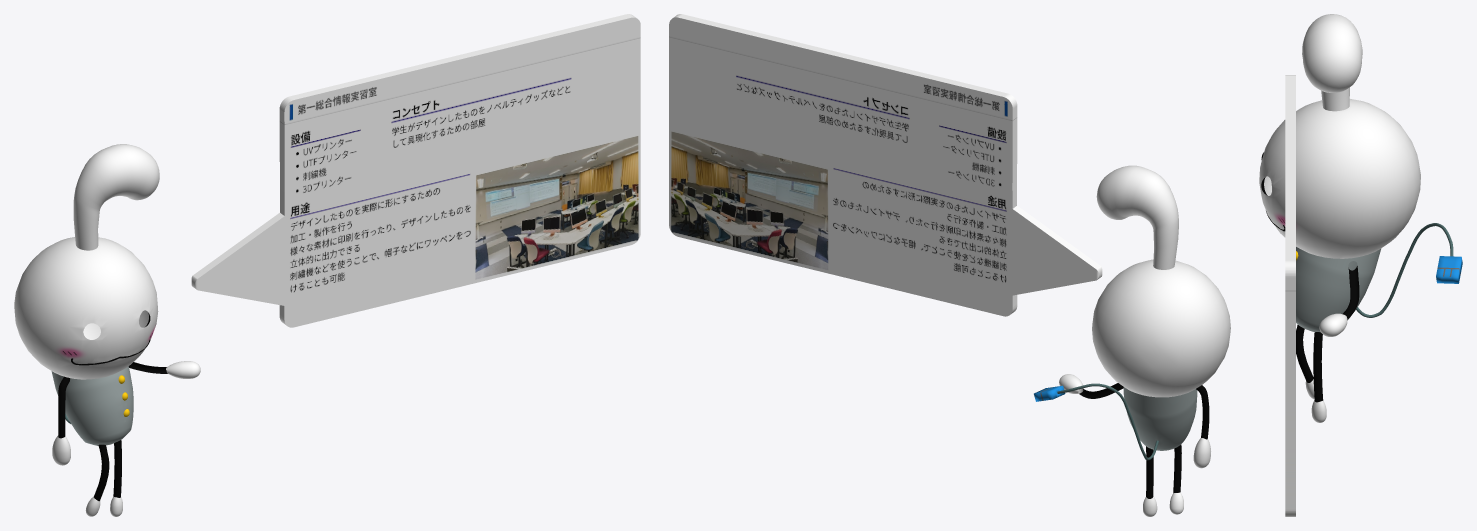
Rendered from first.glb.
3 renders of one model, left to right at view 1: azimuth 30°, elevation 25°; view 2: azimuth 150°, elevation 25°; view 3: azimuth 270°, elevation 25°, orthographic. The views are drawn at different scales.
Parts seen in each view (by area): view 1: 吹き出し（画像）, 頭, 吹き出し（角）, 触覚, 胴; view 2: 吹き出し（画像）, 頭, 吹き出し（角）, 触覚, 胴; view 3: 頭, 吹き出し（画像）, 触覚, 胴, マウス, 尻尾, 左脚, 左拳, 右脚, 左腕, 左足.
Part boxes in pixels (bbox=[...]): 吹き出し（画像）: bbox=[279, 14, 640, 327]; 頭: bbox=[14, 237, 158, 379]; 吹き出し（角）: bbox=[191, 213, 284, 305]; 触覚: bbox=[73, 144, 159, 250]; 胴: bbox=[51, 366, 133, 445]; 吹き出し（画像）: bbox=[669, 14, 1017, 316]; 頭: bbox=[1092, 259, 1230, 397]; 吹き出し（角）: bbox=[1012, 205, 1102, 295]; 触覚: bbox=[1096, 165, 1178, 269]; 胴: bbox=[1123, 387, 1197, 450]; 頭: bbox=[1259, 99, 1420, 258]; 吹き出し（画像）: bbox=[1285, 75, 1295, 516]; 触覚: bbox=[1302, 14, 1362, 111]; 胴: bbox=[1296, 247, 1380, 332]; マウス: bbox=[1436, 256, 1462, 283]; 尻尾: bbox=[1356, 223, 1453, 317]; 左脚: bbox=[1313, 332, 1323, 402]; 左拳: bbox=[1319, 313, 1347, 336]; 右脚: bbox=[1296, 325, 1313, 382]; 左腕: bbox=[1342, 266, 1359, 319]; 左足: bbox=[1311, 400, 1326, 422].
Bounding box in the file's own units: 24.01 × 15.01 × 6.36.
13 materials, 2 textured.
